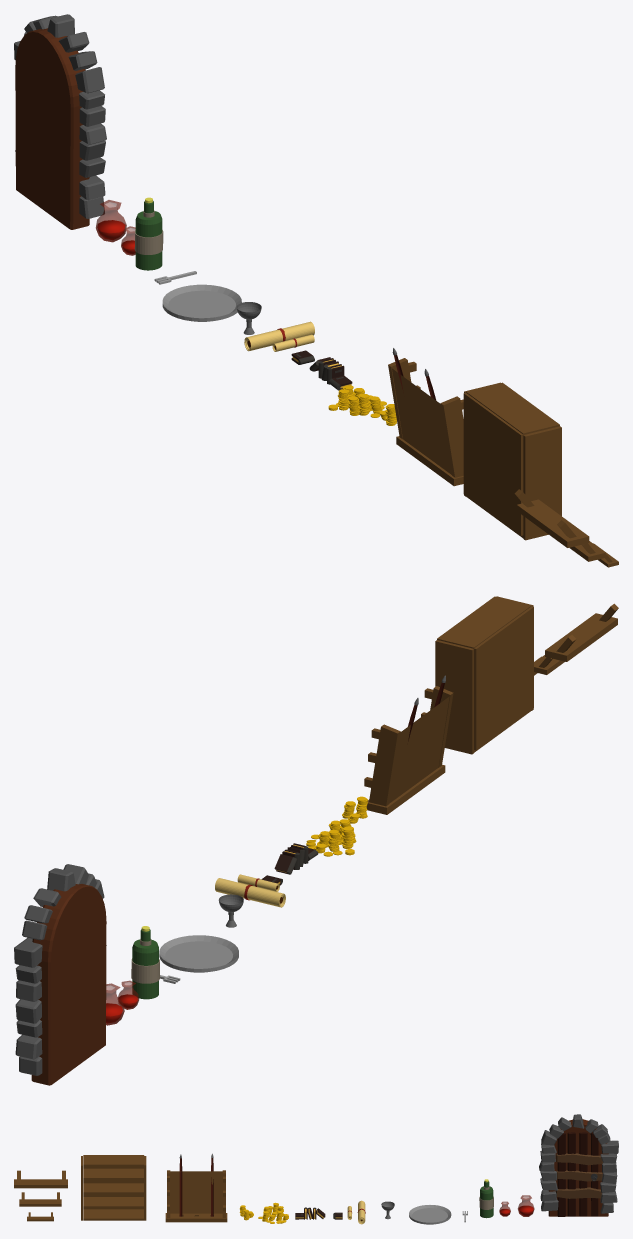
The model's file is stuff .fbx.
3 views of the same model, one above another, from view 1: azimuth 30°, elevation 25°; view 2: azimuth 150°, elevation 25°; view 3: azimuth 270°, elevation 25° (orthographic). The views are drawn at different scales.
Visible parts, largest first — view 1: Circle.003, Cube.003, Cube.005, Cylinder, Cylinder.001, Cube.004, Cylinder.005, Cylinder.004, Icosphere.001, Cylinder.006; view 2: Circle.003, Cube.003, Cube.005, Cylinder, Cylinder.001, Cube.004, Cylinder.005, Cylinder.004, Cylinder.006; view 3: Circle.003, Cube.003, Cube.005, Cylinder, Cube.004, Cylinder.001, Cylinder.005, Cube, Icosphere.001, Cylinder.006, Cube.006, Cube.001 (+1 smaller).
Boxes of the visible parts, box(x1,y1,x2,y2) form: Circle.003: box(14, 14, 106, 229); Cube.003: box(463, 382, 561, 540); Cube.005: box(388, 358, 463, 486); Cylinder: box(162, 284, 241, 321); Cylinder.001: box(134, 197, 163, 270); Cube.004: box(514, 489, 589, 547); Cylinder.005: box(328, 385, 386, 417); Cylinder.004: box(244, 321, 314, 351); Icosphere.001: box(95, 200, 126, 242); Cylinder.006: box(309, 357, 352, 390); Circle.003: box(14, 864, 106, 1085); Cube.003: box(435, 596, 533, 754); Cube.005: box(364, 686, 453, 814); Cylinder: box(159, 935, 238, 972); Cylinder.001: box(131, 926, 159, 999); Cube.004: box(545, 603, 618, 661); Cylinder.005: box(306, 819, 356, 856); Cylinder.004: box(215, 878, 285, 907); Cylinder.006: box(274, 843, 318, 874); Circle.003: box(539, 1114, 618, 1216); Cube.003: box(81, 1155, 146, 1220); Cube.005: box(165, 1170, 227, 1222); Cylinder: box(409, 1205, 451, 1224); Cube.004: box(14, 1170, 67, 1188); Cylinder.001: box(479, 1179, 493, 1218); Cylinder.005: box(258, 1202, 288, 1223); Cube: box(19, 1192, 61, 1206); Icosphere.001: box(517, 1195, 534, 1216); Cylinder.006: box(295, 1207, 325, 1219); Cube.006: box(179, 1154, 182, 1216); Cube.001: box(27, 1212, 53, 1221).
Size of the model in its own units: 161 by 368 by 1985.
